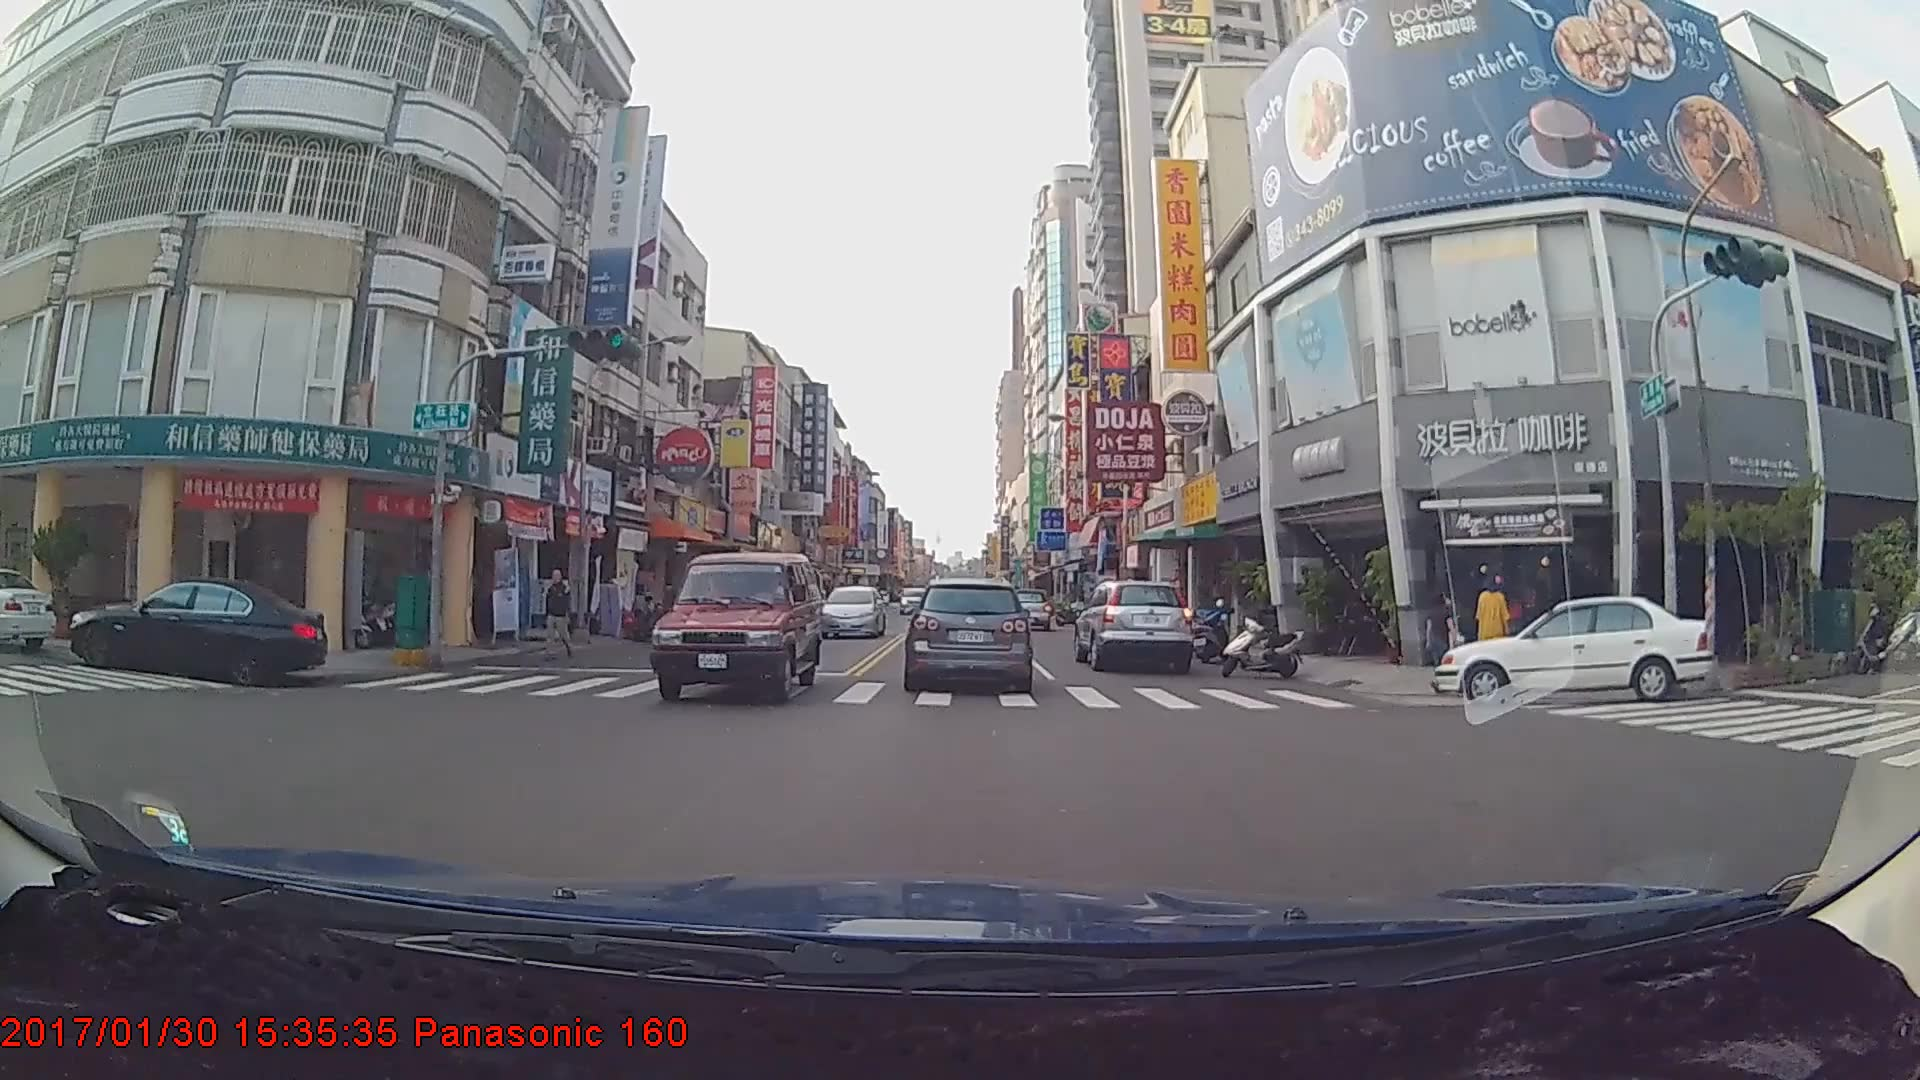pedestrian: (1424, 589, 1458, 701), (540, 567, 579, 661), (1474, 575, 1512, 669)
vehicle: (1431, 593, 1716, 706), (66, 572, 327, 685), (649, 552, 825, 703), (904, 579, 1029, 691), (1072, 576, 1194, 674), (0, 566, 57, 653), (817, 585, 885, 639), (1004, 588, 1049, 631)
